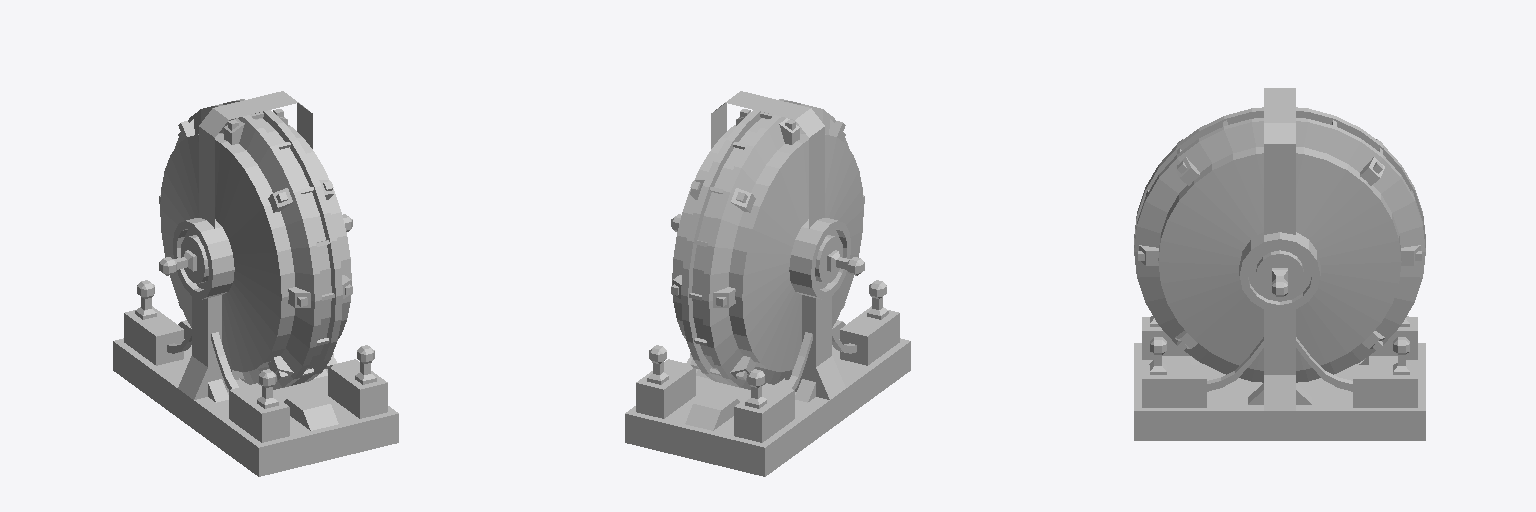
Rendered from fensu2.obj.
The picture shows the model from 3 angles: view 1: azimuth 30°, elevation 25°; view 2: azimuth 150°, elevation 25°; view 3: azimuth 270°, elevation 25°; orthographic projection.
Visible parts, largest first — view 1: Base, Wheel, Plasma, Lights; view 2: Base, Wheel, Plasma, Lights; view 3: Wheel, Base.
Part boxes in pixels (left/top/right/bottom): Base: left=113, top=91, right=398, bottom=476; Wheel: left=160, top=99, right=351, bottom=389; Plasma: left=251, top=114, right=331, bottom=369; Lights: left=159, top=109, right=352, bottom=380; Base: left=625, top=91, right=910, bottom=476; Wheel: left=672, top=99, right=863, bottom=389; Plasma: left=692, top=114, right=772, bottom=369; Lights: left=671, top=109, right=864, bottom=380; Wheel: left=1134, top=107, right=1425, bottom=382; Base: left=1134, top=88, right=1425, bottom=440.
Size of the model in its own units: 6.75 by 10.25 by 9.